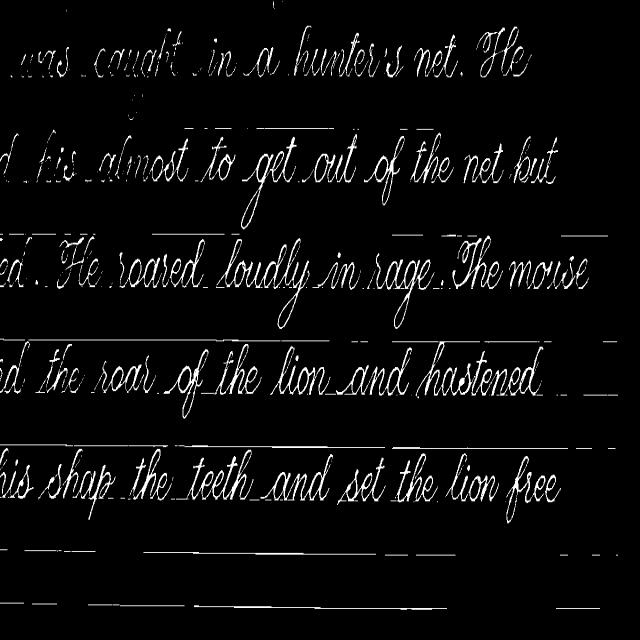noise: (86, 601, 448, 613), (0, 443, 388, 451), (0, 337, 330, 346), (142, 549, 376, 556), (389, 445, 602, 452), (8, 232, 94, 241), (559, 547, 619, 559), (246, 126, 342, 132), (556, 388, 618, 396), (390, 340, 552, 343), (151, 231, 240, 236), (22, 548, 96, 554), (0, 601, 60, 608), (555, 605, 600, 612), (440, 232, 482, 238), (348, 331, 368, 343), (202, 126, 238, 132), (350, 121, 366, 133), (398, 127, 434, 132), (415, 552, 455, 556), (560, 235, 608, 238), (602, 339, 618, 348), (108, 498, 130, 504), (392, 232, 424, 236), (384, 552, 409, 556), (430, 280, 441, 288), (184, 127, 197, 132), (170, 495, 185, 499), (608, 445, 618, 450), (0, 547, 8, 552), (84, 177, 92, 182), (203, 284, 210, 289), (249, 499, 260, 501)
not-noise: (94, 25, 462, 78), (90, 35, 464, 79), (216, 238, 308, 329), (420, 341, 543, 395), (240, 136, 297, 229), (40, 449, 114, 516), (120, 239, 204, 288), (98, 136, 189, 181), (378, 259, 434, 329), (506, 456, 560, 523), (184, 450, 254, 500), (339, 348, 411, 395), (261, 454, 332, 500), (164, 349, 208, 419), (300, 133, 357, 183), (271, 347, 330, 395), (476, 26, 530, 77), (508, 256, 588, 289), (366, 135, 404, 204), (454, 236, 502, 289), (446, 453, 499, 501), (214, 344, 262, 394), (128, 448, 174, 500), (38, 343, 84, 393), (95, 356, 156, 393), (410, 132, 454, 183), (510, 137, 558, 183), (56, 236, 98, 288), (394, 452, 436, 501), (37, 130, 76, 182), (338, 458, 384, 501), (480, 42, 531, 78), (0, 445, 34, 499), (0, 233, 33, 288), (462, 143, 504, 183), (20, 47, 71, 76), (0, 341, 28, 392), (318, 261, 360, 289), (208, 136, 234, 180), (200, 136, 223, 181), (0, 133, 18, 177), (128, 87, 144, 121), (371, 254, 382, 279), (337, 252, 340, 260), (441, 280, 444, 288), (36, 279, 38, 284)
